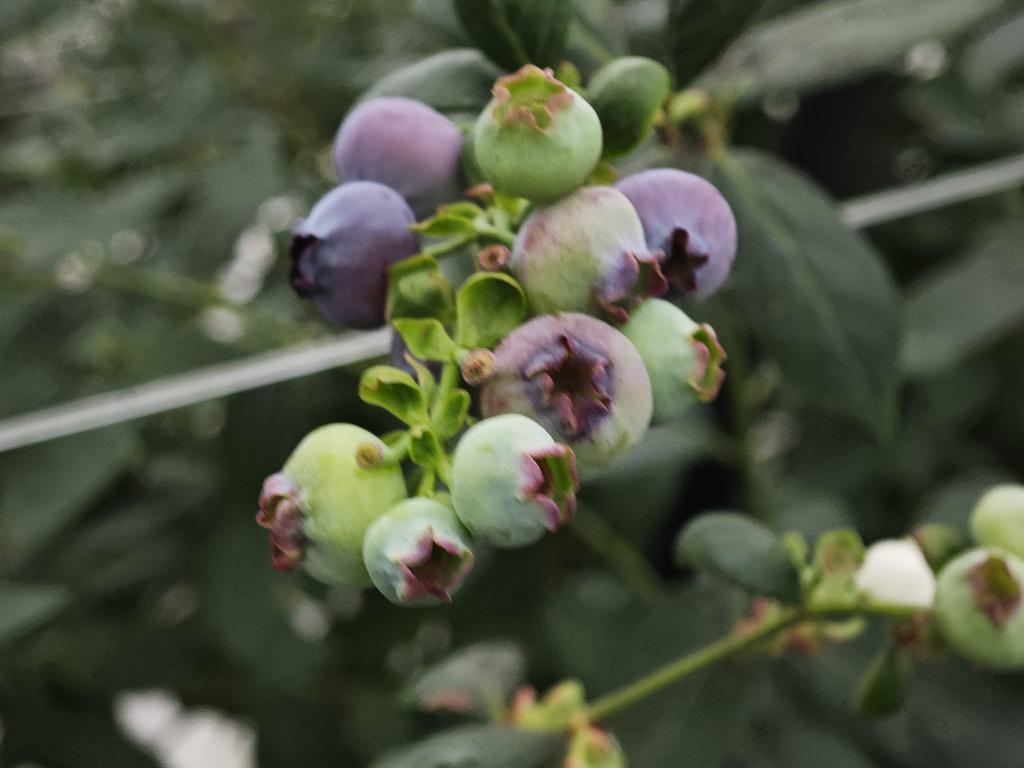RipeBlueBerry: (294, 177, 420, 336)
Semi-RipeBlueBerry: (616, 169, 741, 304), (332, 99, 464, 201)
UnripeBlueBerry: (490, 309, 656, 470), (259, 421, 408, 591), (450, 413, 576, 551), (474, 69, 605, 201)
